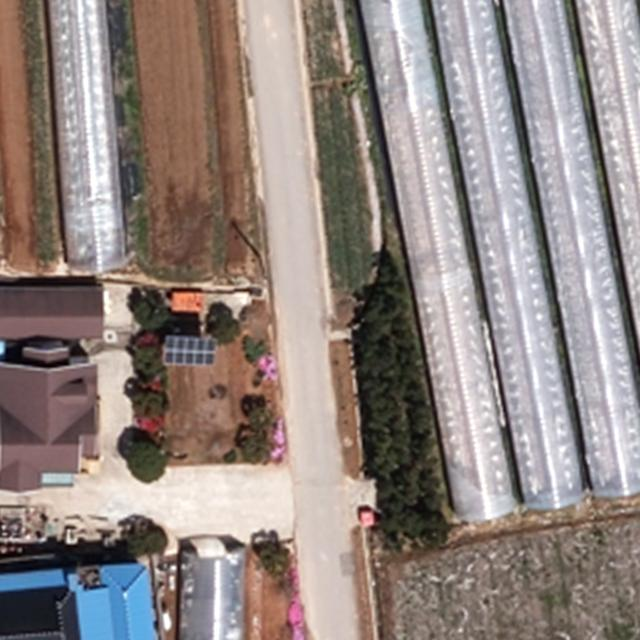panel: (161, 334, 216, 367)
